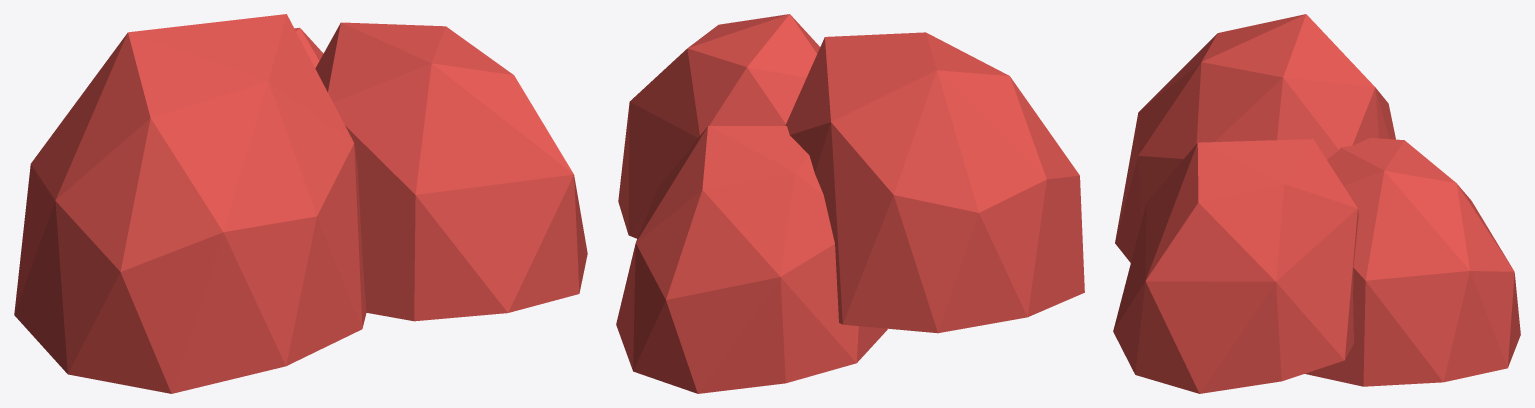
File: Rock.fbx
3 renders of one model, left to right at view 1: azimuth 30°, elevation 25°; view 2: azimuth 150°, elevation 25°; view 3: azimuth 270°, elevation 25°, orthographic. The views are drawn at different scales.
Visible parts, largest first — view 1: Icosphere.002; view 2: Icosphere.002; view 3: Icosphere.002.
Boxes of the visible parts, x1,y1,x2,y2 form: Icosphere.002: (14,14,587,393); Icosphere.002: (616,14,1084,393); Icosphere.002: (1113,14,1520,393).
Size of the model in its own units: 117 by 69.72 by 98.56.
